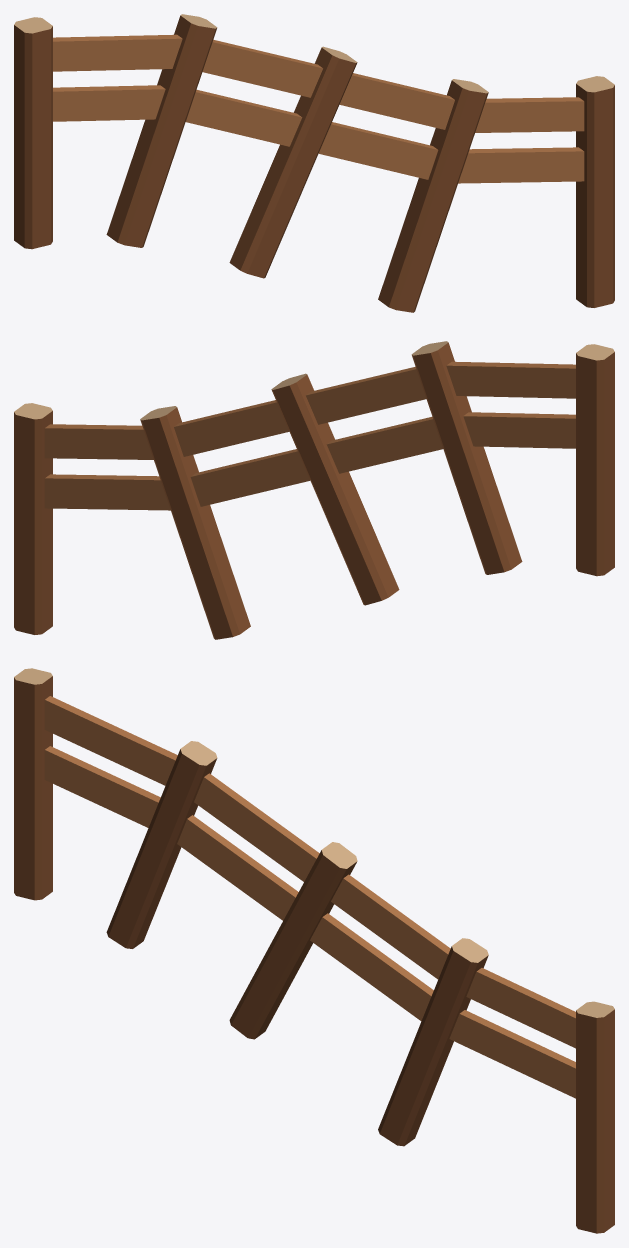
File: Prop_Decorative_Fence_Hill.obj
The picture shows the model from 3 angles, top to bottom: view 1: azimuth 30°, elevation 25°; view 2: azimuth 150°, elevation 25°; view 3: azimuth 330°, elevation 25°; orthographic projection.
Visible parts, largest first — view 1: Fence_Post_Side, Fence_Rail, Fence_Post_Top; view 2: Fence_Post_Side, Fence_Rail, Fence_Post_Top; view 3: Fence_Post_Side, Fence_Rail, Fence_Post_Top.
Boxes of the visible parts, left/top/right/bottom form: Fence_Post_Side: left=14, top=15, right=614, bottom=312; Fence_Rail: left=53, top=34, right=584, bottom=183; Fence_Post_Top: left=14, top=14, right=614, bottom=93; Fence_Post_Side: left=14, top=342, right=614, bottom=639; Fence_Rail: left=44, top=361, right=575, bottom=510; Fence_Post_Top: left=14, top=341, right=614, bottom=420; Fence_Post_Side: left=14, top=676, right=614, bottom=1233; Fence_Rail: left=44, top=696, right=575, bottom=1098; Fence_Post_Top: left=14, top=668, right=614, bottom=1017.
Bounding box in the file's own units: 3.15 × 2.1 × 0.15.
